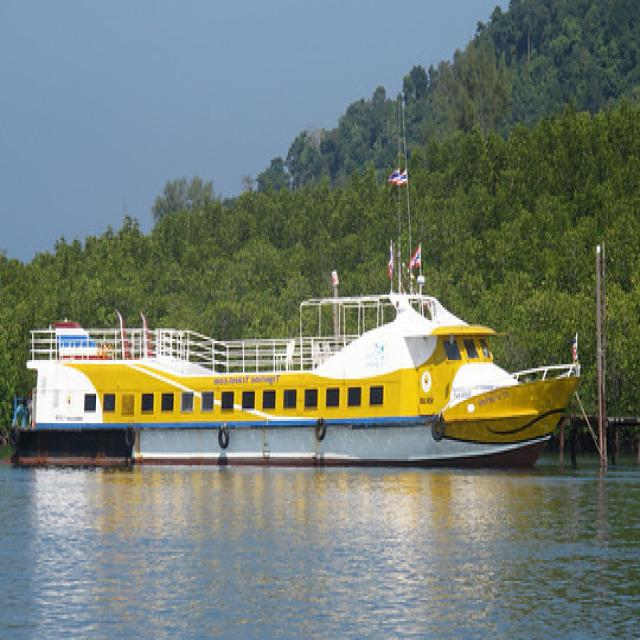houseboat: (14, 244, 590, 483)
